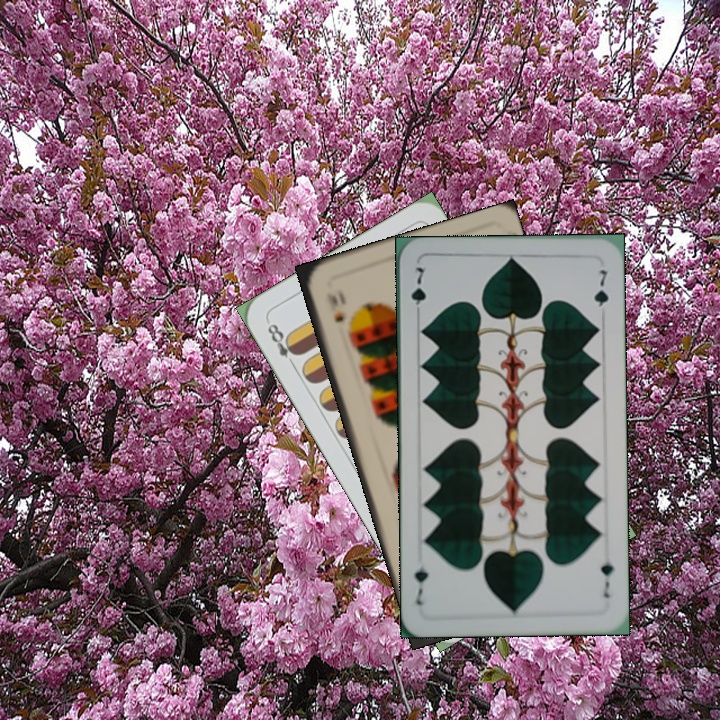E8: (263, 319, 302, 371)
G7: (407, 263, 428, 321), (597, 557, 616, 600)
S10: (322, 288, 347, 325)
